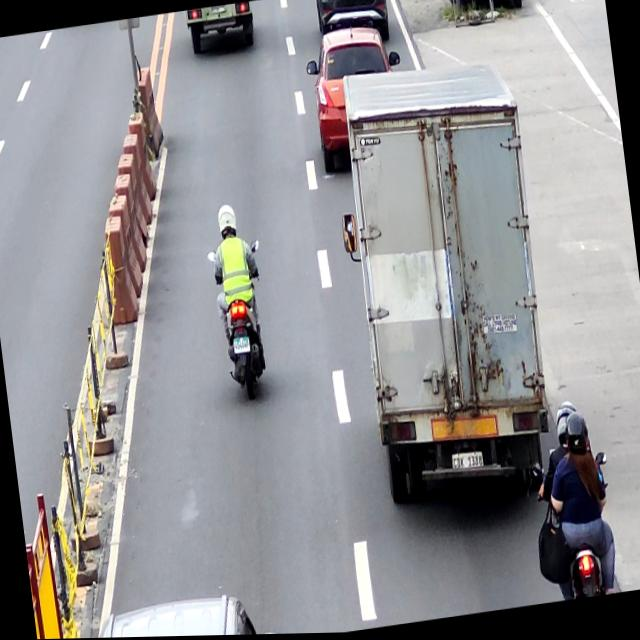Car: (302, 22, 413, 180), (312, 0, 392, 49)
License-Plate: (449, 452, 484, 475), (231, 335, 250, 356)
Motorcycle: (526, 450, 624, 606), (207, 241, 277, 406)
Truck: (323, 47, 566, 515)
